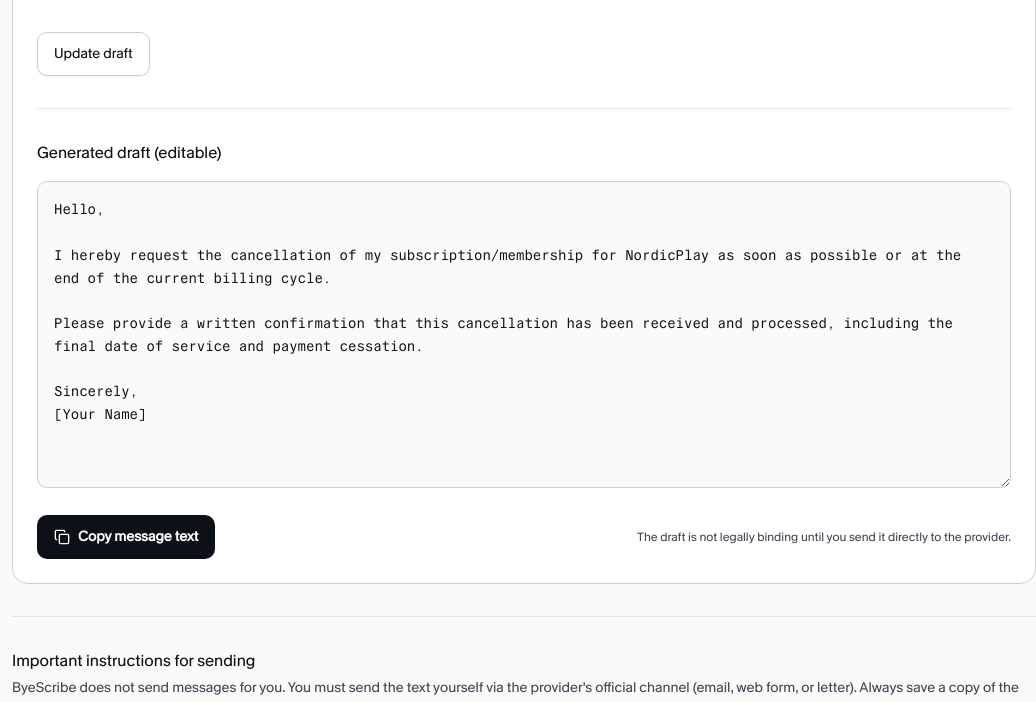
CancellationMessageGenerator Component › allows manual editing of output and reset to template
The image size is (1036, 702).
(page scrolled)
Replace the text in the text box named "Generated cancellation message" with "Completely custom message text". click: (524, 335)
box: [37,181,1011,488]
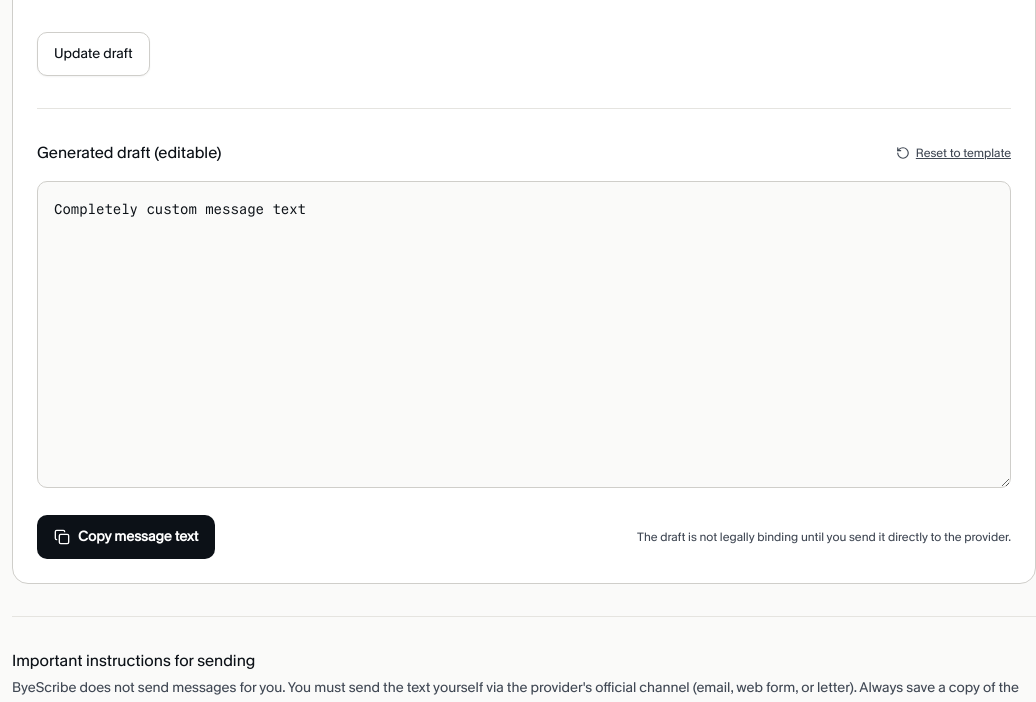
Expected: the text "Reset to template" is shown, [916,145,1011,161]
Click the button "Reset to template". click: click(953, 153)
box: [896,141,1011,165]
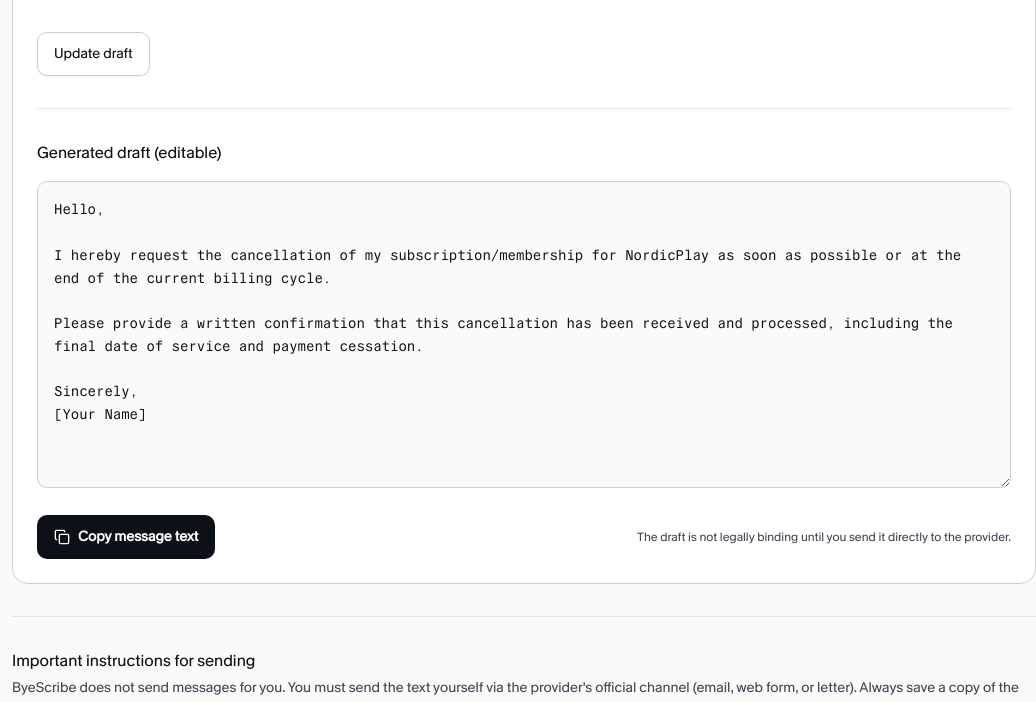
Expected: the button "Reset to template" is gone
